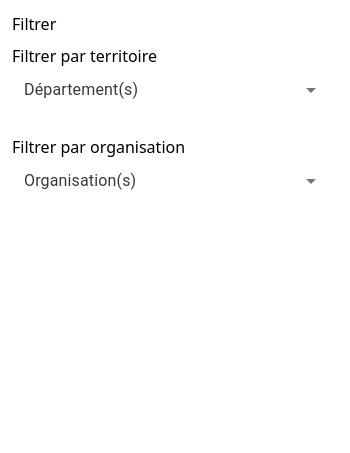
Test: TeamsFilters › renders org shortName suffix inside the dropdown option
Step 1. Click the dropdown with placeholder "Organisation(s)" → (156, 180), box [20, 159, 293, 202]
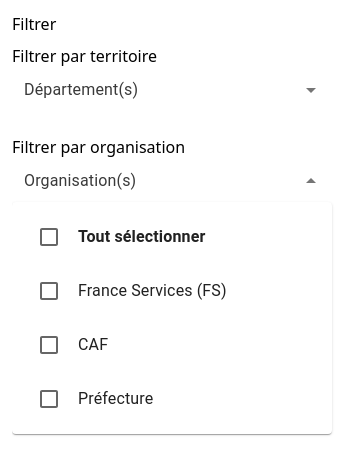
expect the text "(FS)" is shown: met, box [197, 279, 227, 303]
